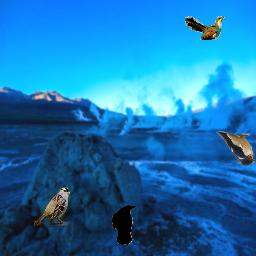Crow: (112, 205, 137, 245)
Cuckoo: (185, 16, 225, 40)
Sparrow: (34, 187, 70, 227)
Swallow: (216, 131, 256, 166)
